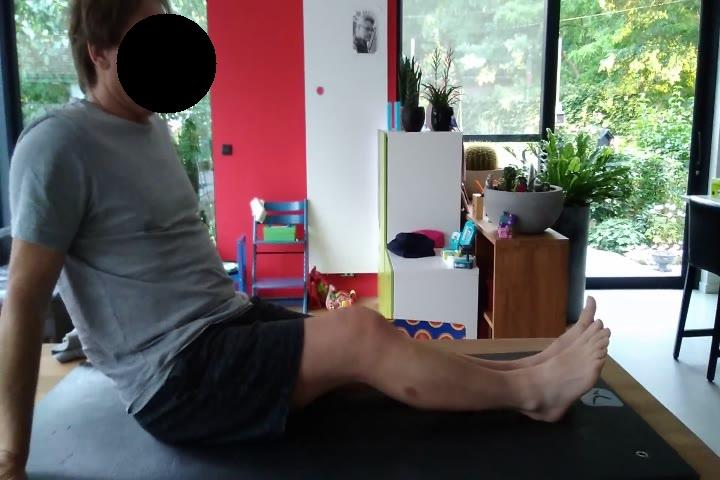lower_body: (139, 293, 614, 450)
